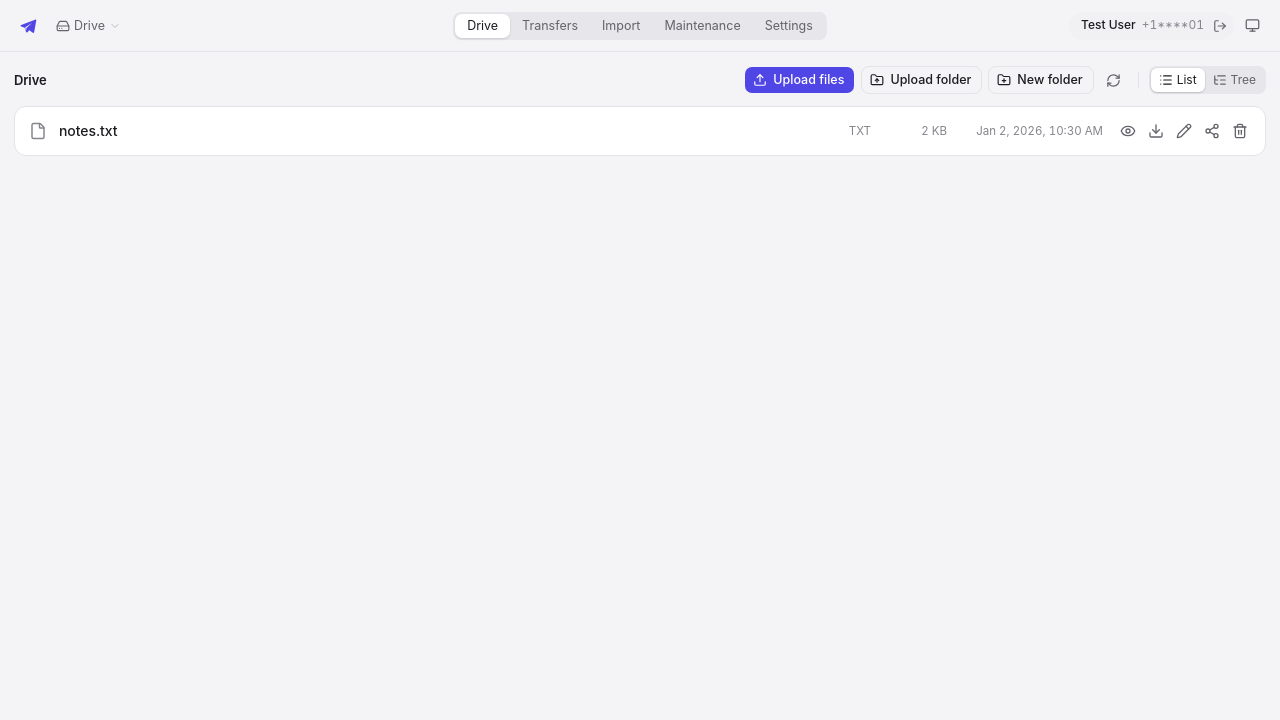
Test: the download sheet applies the chosen local conflict policy
Expected: the list is shown, [14,106,1266,156]
Step 1. Click the button named "Download" → (1156, 131), box [1143,118,1169,144]
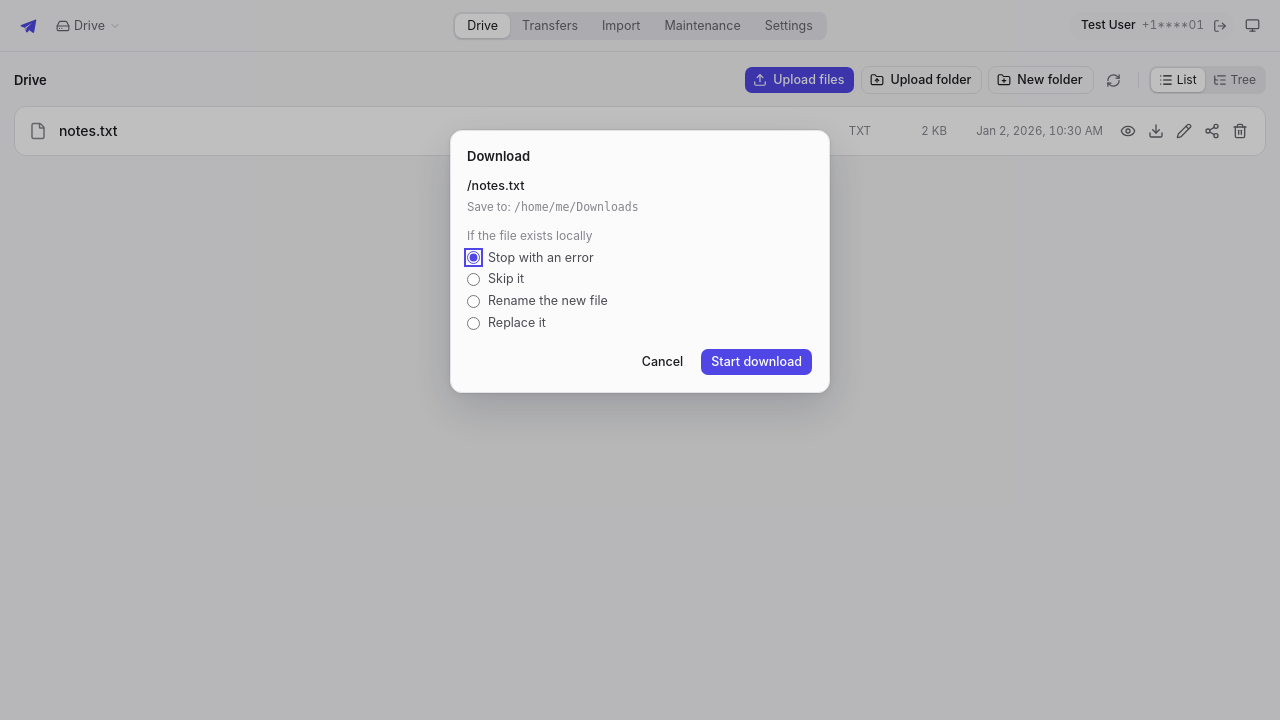
Result: the text "/home/me/Downloads" is shown at [514,200,639,214]
Step 2. Click the radio button labelled "Replace it" → (474, 323), box [467,316,480,330]
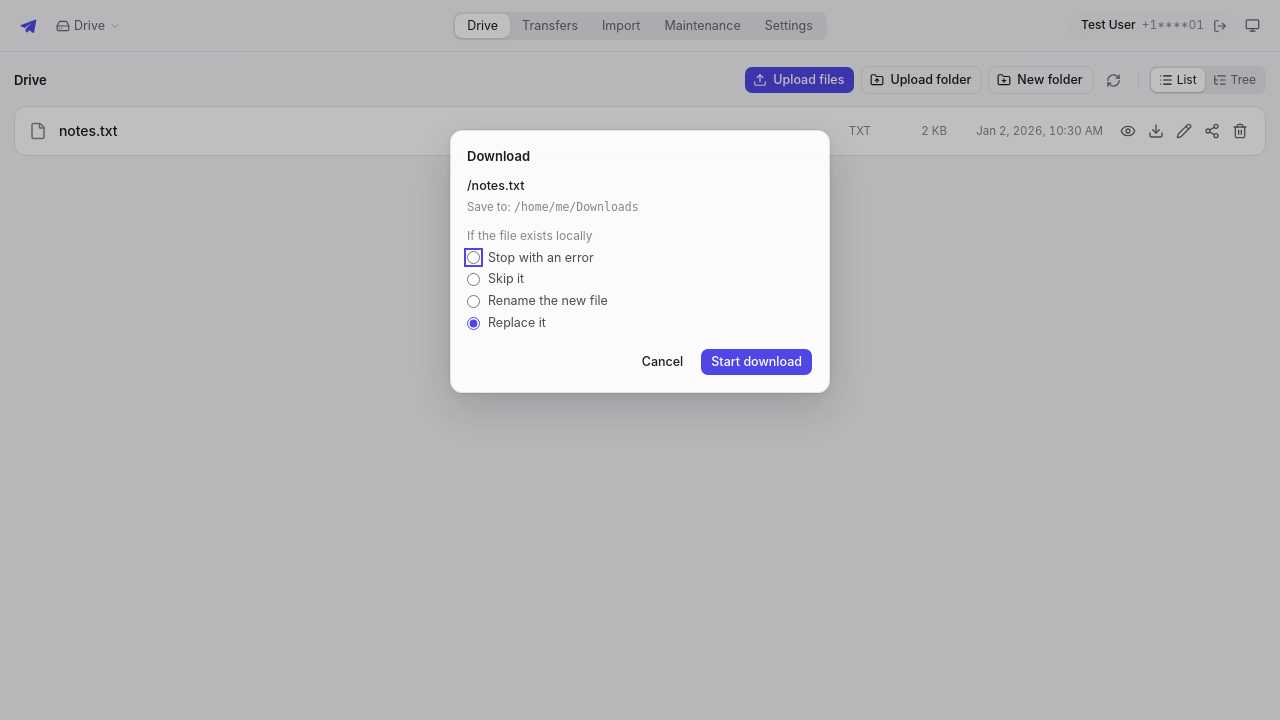
Step 3. Click the button "Start download" → (757, 362), box [700,348,813,376]
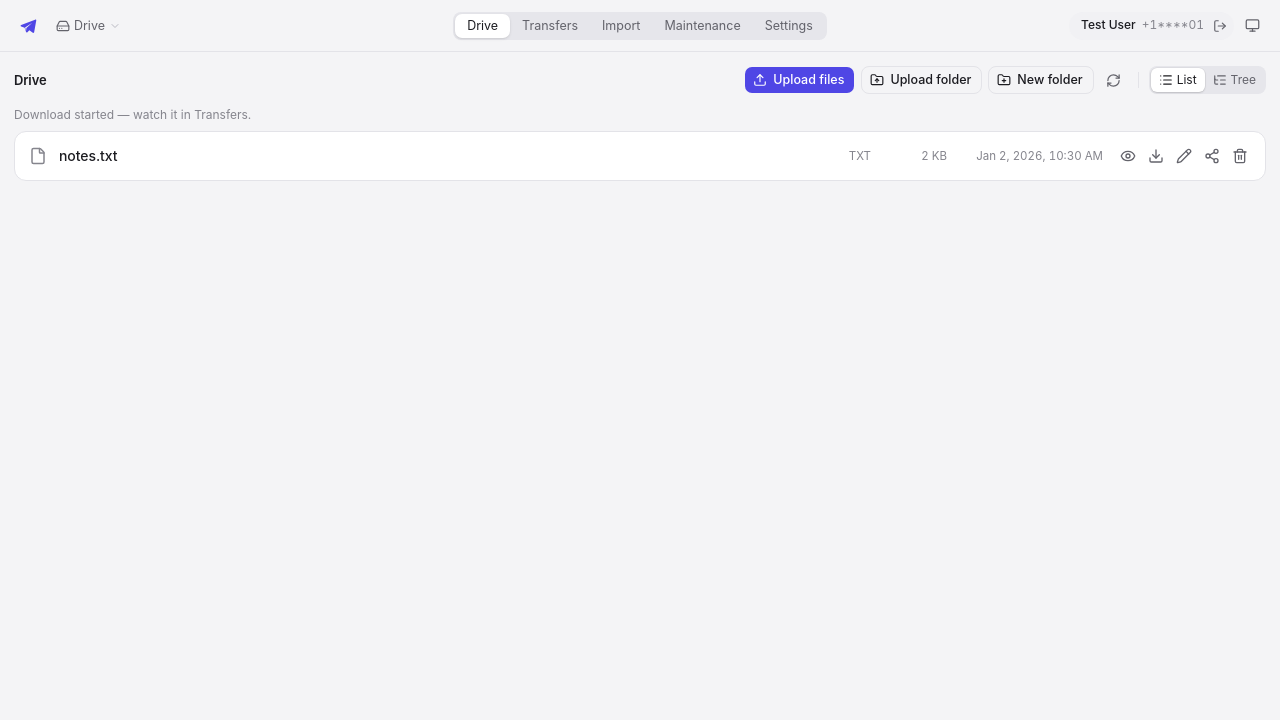
Result: the text "Download started — watch it in Transfers." is shown at [14,107,251,122]
